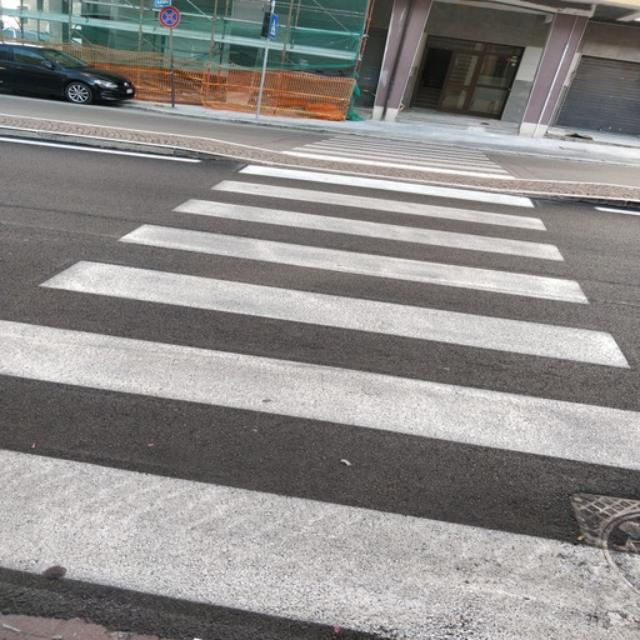sidewalk: (0, 134, 640, 640)
